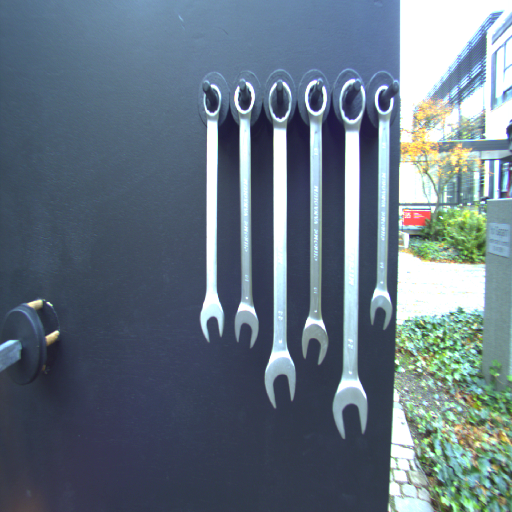bottom: (330, 375, 371, 442), (263, 352, 301, 414), (298, 315, 330, 370), (197, 294, 228, 347), (233, 299, 259, 352), (368, 286, 394, 334)
top: (337, 77, 367, 130), (301, 76, 329, 122), (267, 79, 294, 125), (231, 78, 258, 123), (198, 80, 226, 120), (373, 75, 397, 119)
